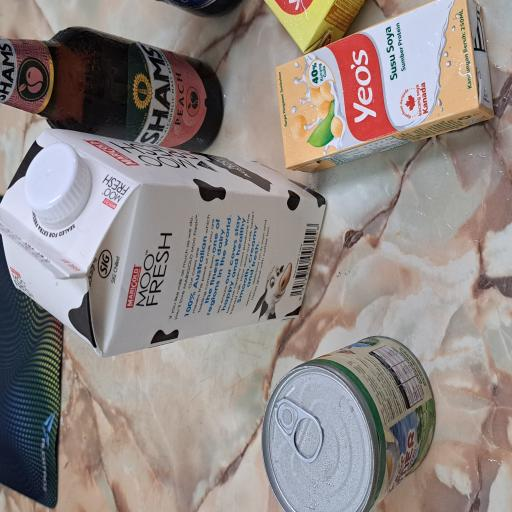can: (0, 348, 133, 512)
drink carton: (114, 0, 287, 436), (252, 366, 384, 512), (347, 347, 384, 488)
glass bottle: (269, 0, 364, 298)
plastic bottle cap: (217, 32, 278, 121)
pop tab: (38, 365, 85, 431)
